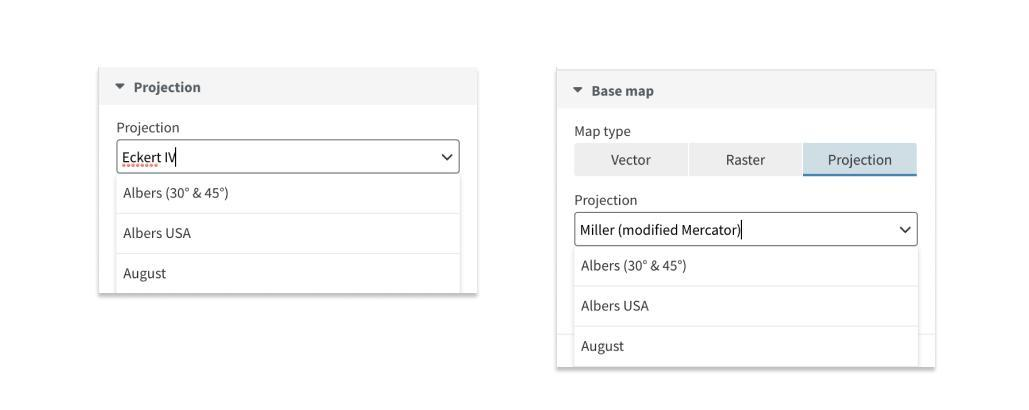dropdown: (118, 141, 460, 175), (576, 214, 918, 247)
label: (572, 189, 643, 210), (570, 124, 635, 142), (117, 119, 184, 136)
